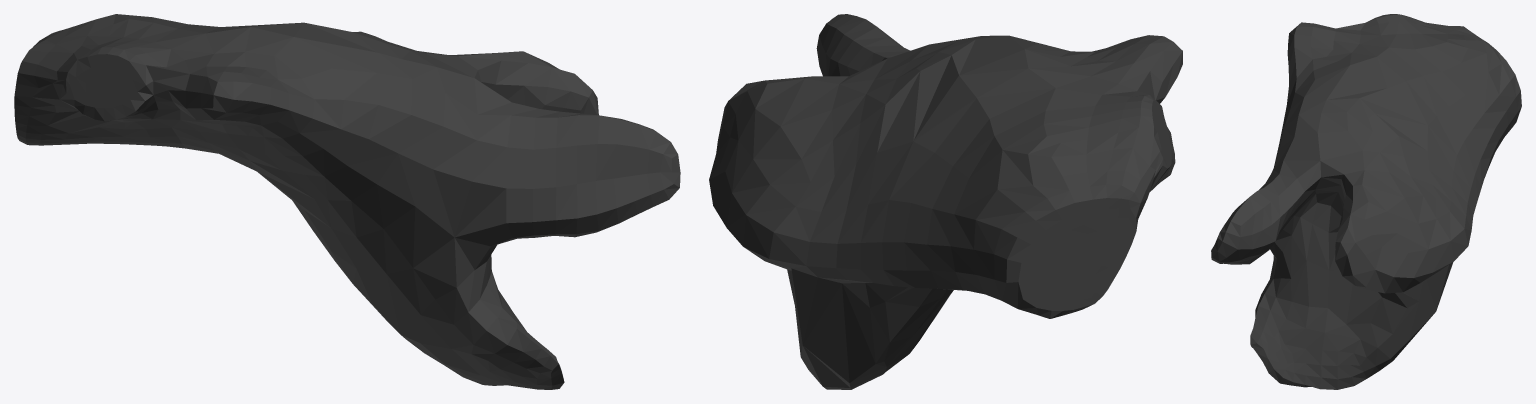
File: R_sided_PULM_TRUNK.glb
The picture shows the model from 3 angles, left to right: view 1: azimuth 30°, elevation 25°; view 2: azimuth 150°, elevation 25°; view 3: azimuth 270°, elevation 25°; orthographic projection. The views are drawn at different scales.
Parts seen in each view (by area): view 1: R_sided_PULM_TRUNK; view 2: R_sided_PULM_TRUNK; view 3: R_sided_PULM_TRUNK.
Boxes of the visible parts, left/top/right/bottom form: R_sided_PULM_TRUNK: left=14, top=14, right=680, bottom=389; R_sided_PULM_TRUNK: left=709, top=14, right=1182, bottom=389; R_sided_PULM_TRUNK: left=1211, top=14, right=1521, bottom=389.
Bounding box in the file's own units: 3.82 × 2.87 × 3.04.
1 material, 1 textured.
